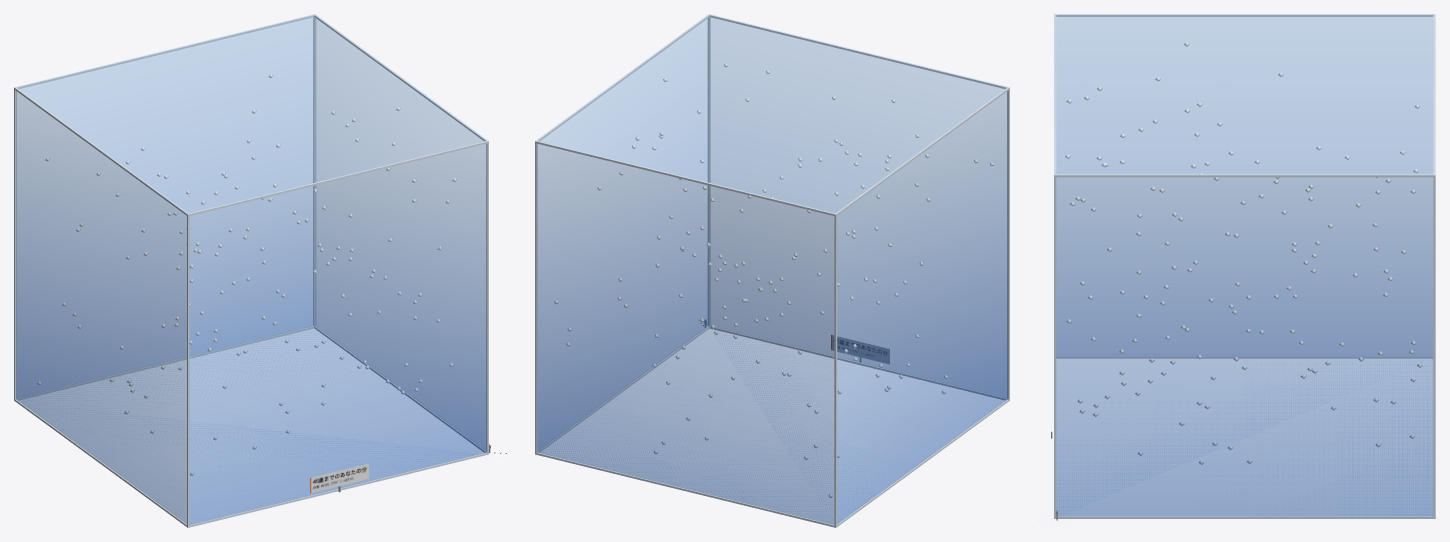
The model's file is cube_life_46.glb.
3 renders of one model, left to right at view 1: azimuth 30°, elevation 25°; view 2: azimuth 150°, elevation 25°; view 3: azimuth 270°, elevation 25°, orthographic. The views are drawn at different scales.
Parts seen in each view (by area): view 1: co2, edge, dots, label; view 2: co2, edge, dots, label; view 3: co2, edge, dots.
Part boxes in pixels (box(x1,y1,x2,y2)): co2: box(16, 15, 486, 524); edge: box(14, 14, 488, 527); dots: box(37, 74, 456, 475); label: box(310, 463, 368, 493); co2: box(537, 15, 1007, 524); edge: box(535, 14, 1009, 527); dots: box(554, 63, 993, 497); label: box(831, 335, 889, 364); co2: box(1055, 15, 1433, 516); edge: box(1054, 14, 1435, 518); dots: box(1065, 42, 1422, 464).
Bounding box in the file's own units: 64.67 × 60.92 × 63.77.
8 materials, 3 textured.
